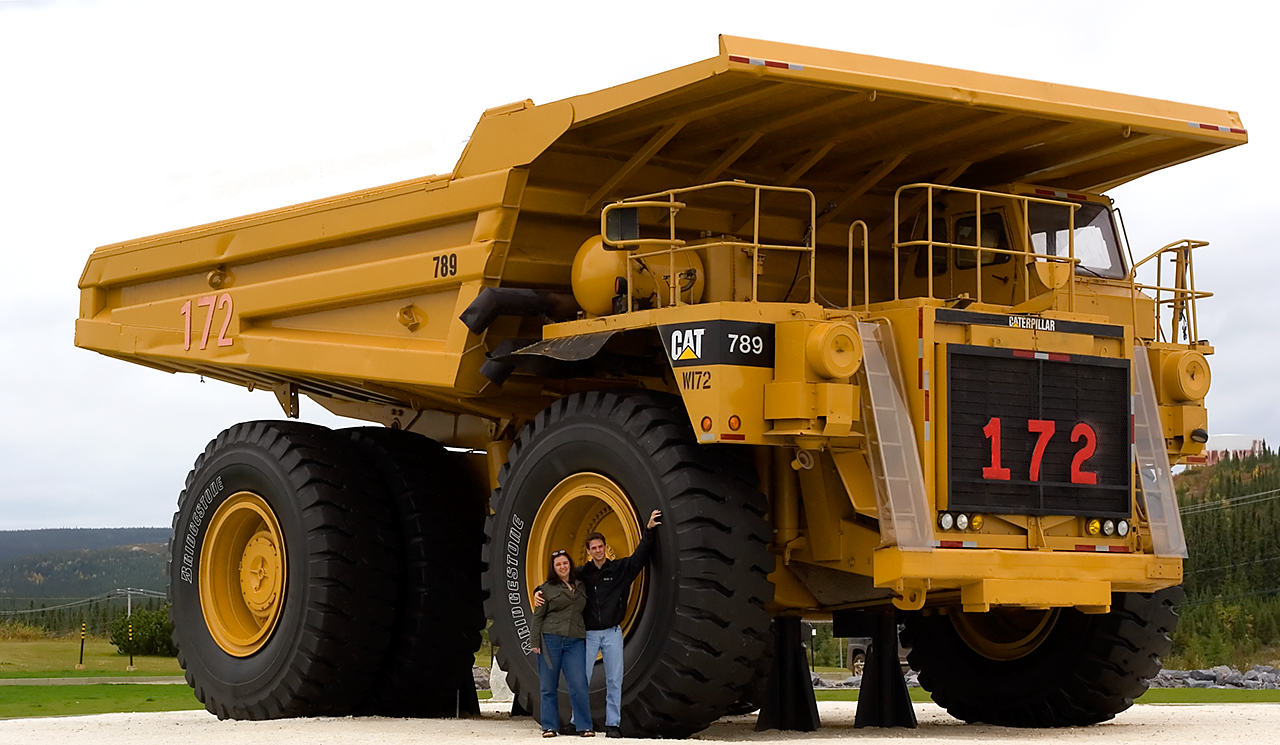truck: (74, 32, 1251, 725)
